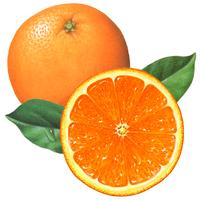orange: (5, 7, 136, 122), (69, 72, 188, 196)
